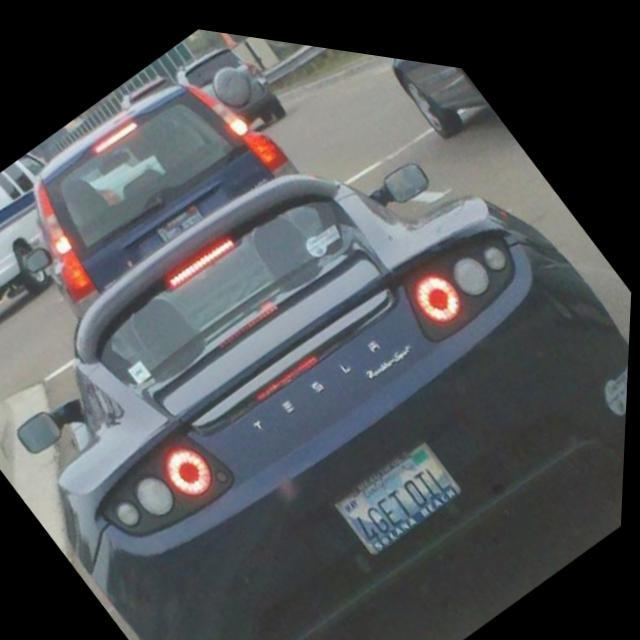license_plate: (338, 420, 466, 553)
